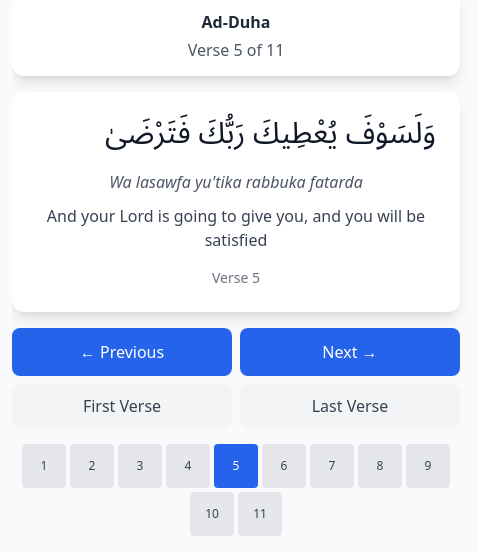
Test: Ad-Duha Reading Mode - Verse Number Indexing › should navigate correctly using Previous button
Check: the text "Verse 5 of 11" is shown, box [188, 39, 284, 61]
Click the button "← Previous": (122, 352) [12, 328, 232, 376]
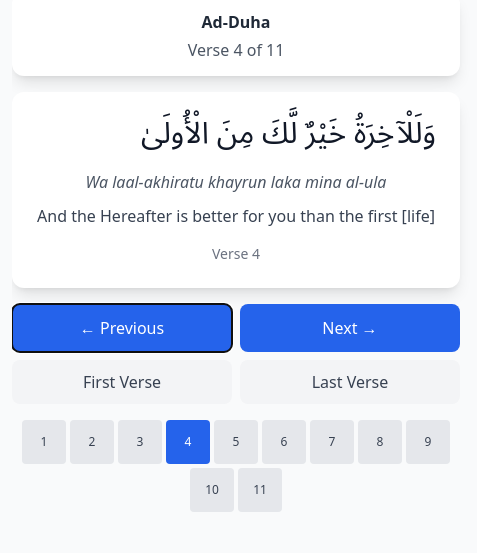
Click the button "← Previous": (122, 328) [12, 304, 232, 352]
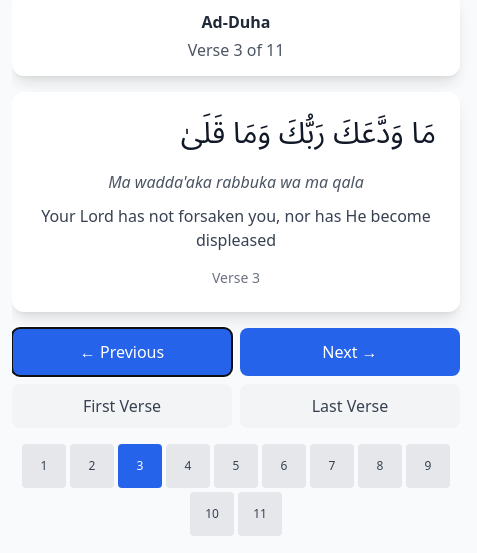
Click the button "← Previous": (122, 352) [12, 328, 232, 376]
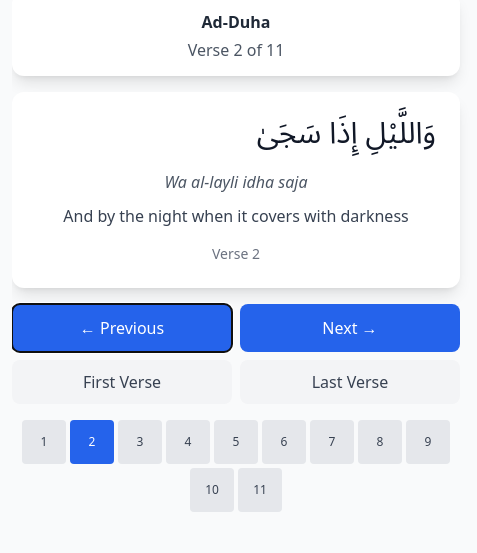
Click the button "← Previous": (122, 328) [12, 304, 232, 352]
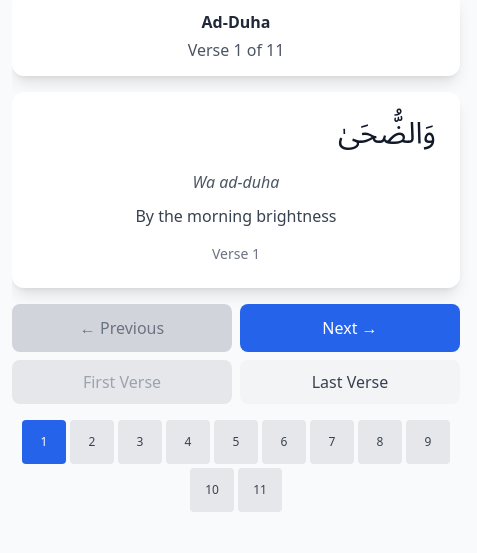
Check: the text "Verse 1 of 11" is shown, box [188, 39, 284, 61]
